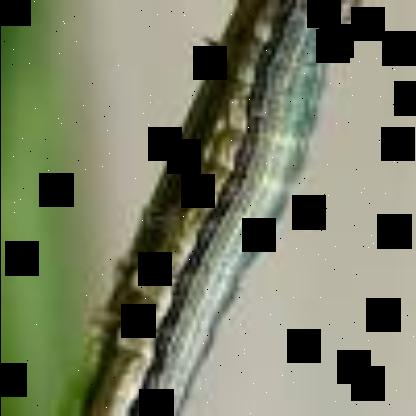oruga: (81, 0, 368, 416)
